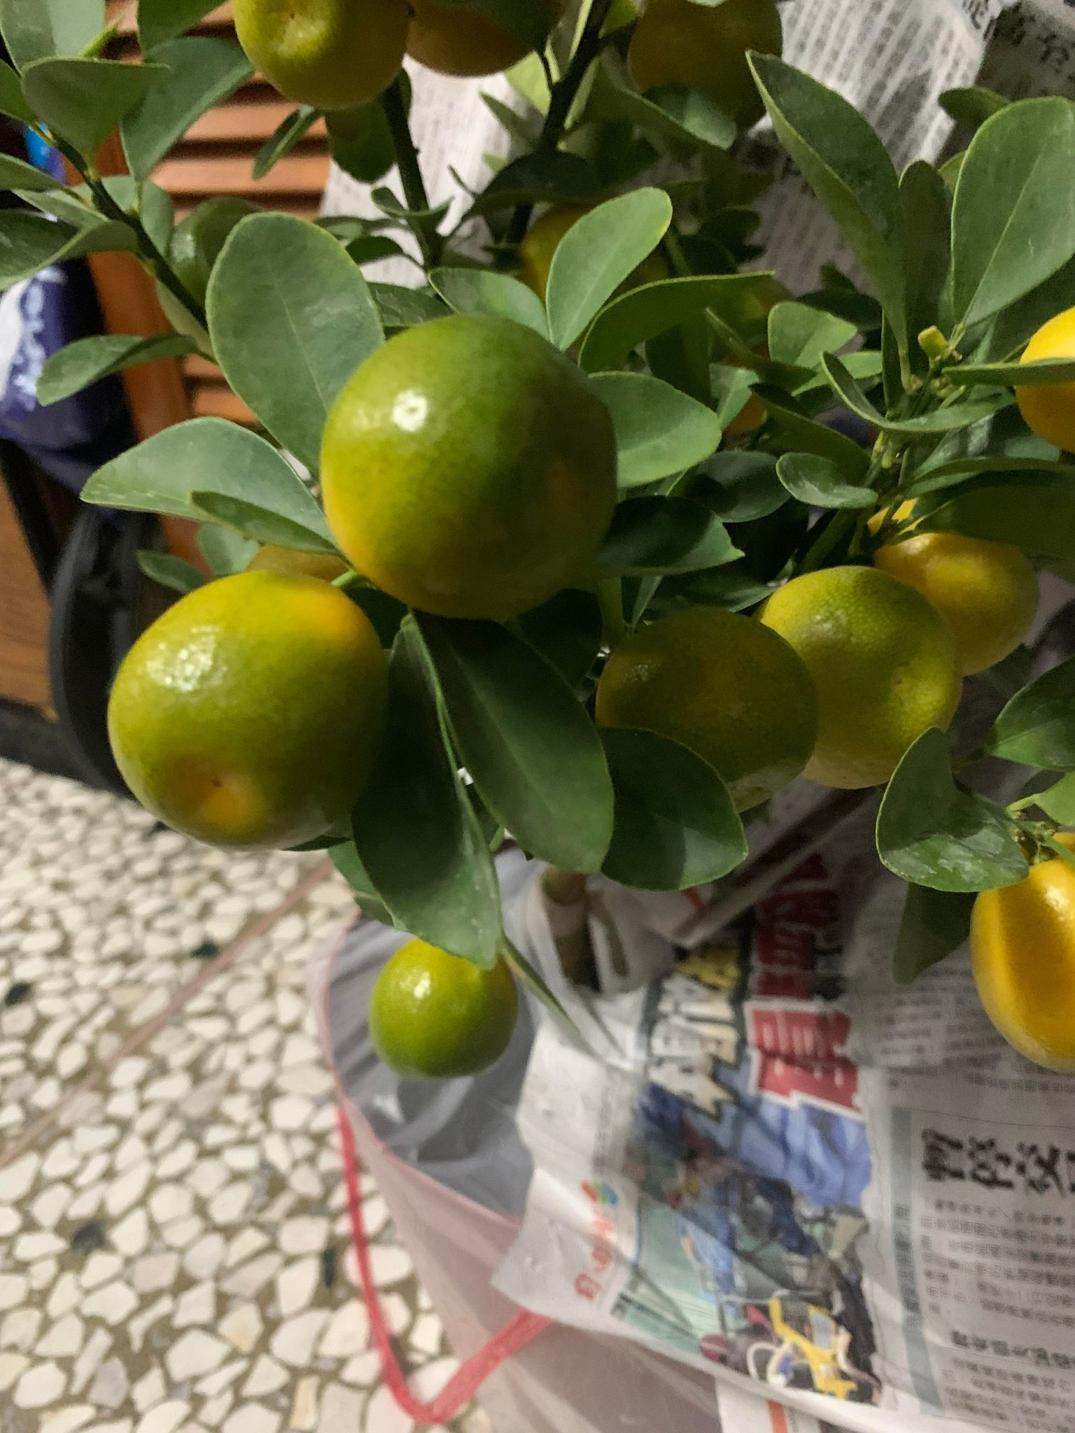Kumquat: (321, 317, 617, 623), (91, 557, 386, 853), (611, 591, 815, 827), (766, 556, 963, 792), (874, 492, 1029, 669), (967, 823, 1073, 1075), (366, 921, 519, 1077)
